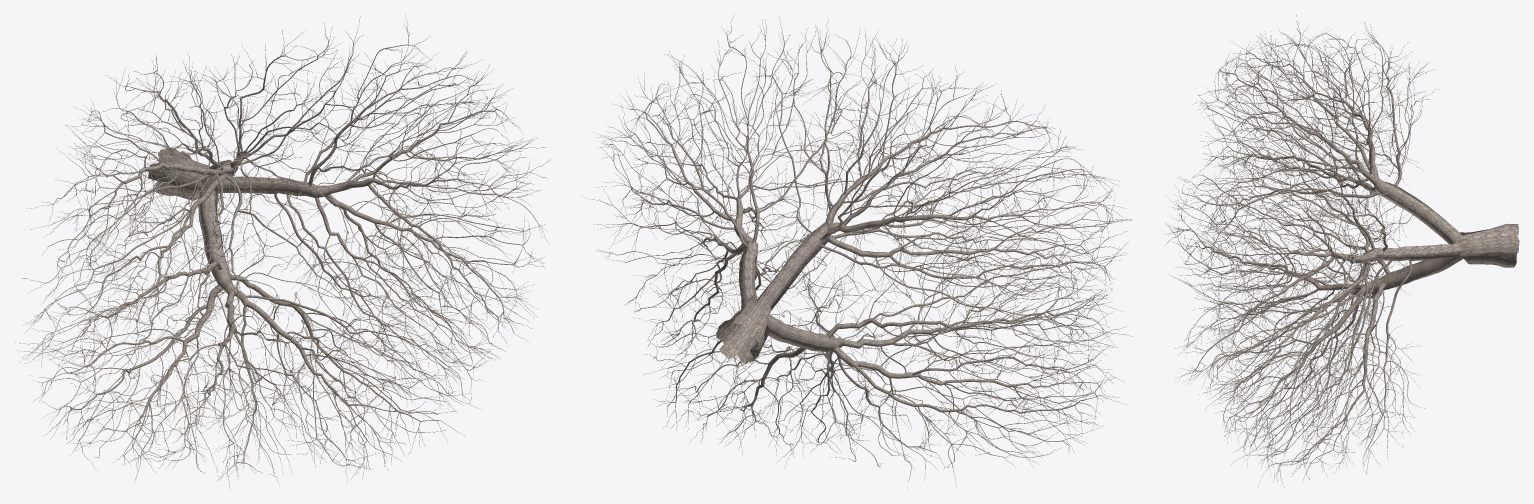
The model's file is olive_bark.obj.
The picture shows the model from 3 angles, left to right: view 1: azimuth 30°, elevation 25°; view 2: azimuth 150°, elevation 25°; view 3: azimuth 270°, elevation 25°; orthographic projection. The views are drawn at different scales.
Bounding box in the file's own units: 6.47 × 5.38 × 4.31.
1 material, 1 textured.
